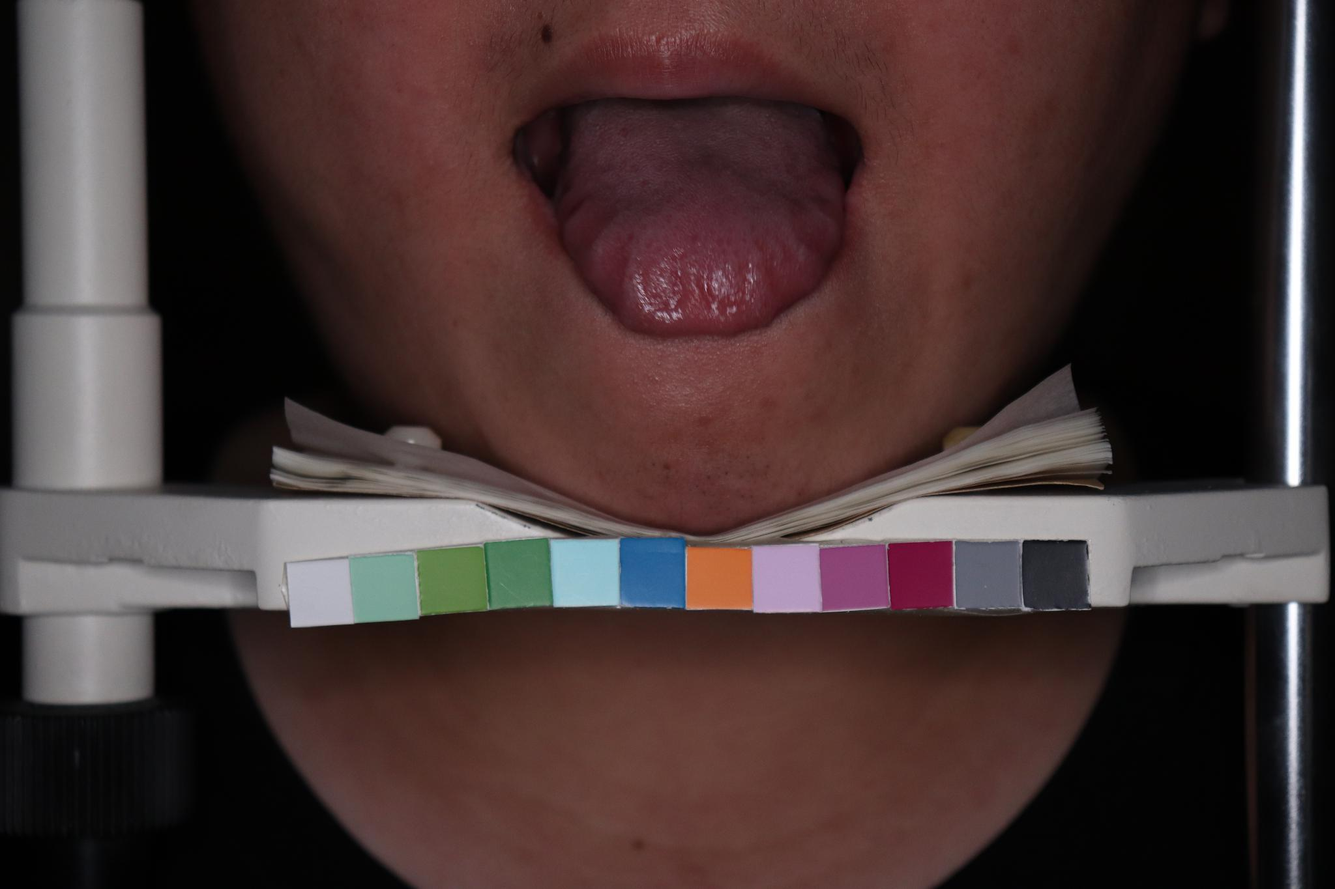baitaishe: (554, 102, 847, 337)
chihenshe: (554, 184, 631, 316), (796, 195, 847, 264)
